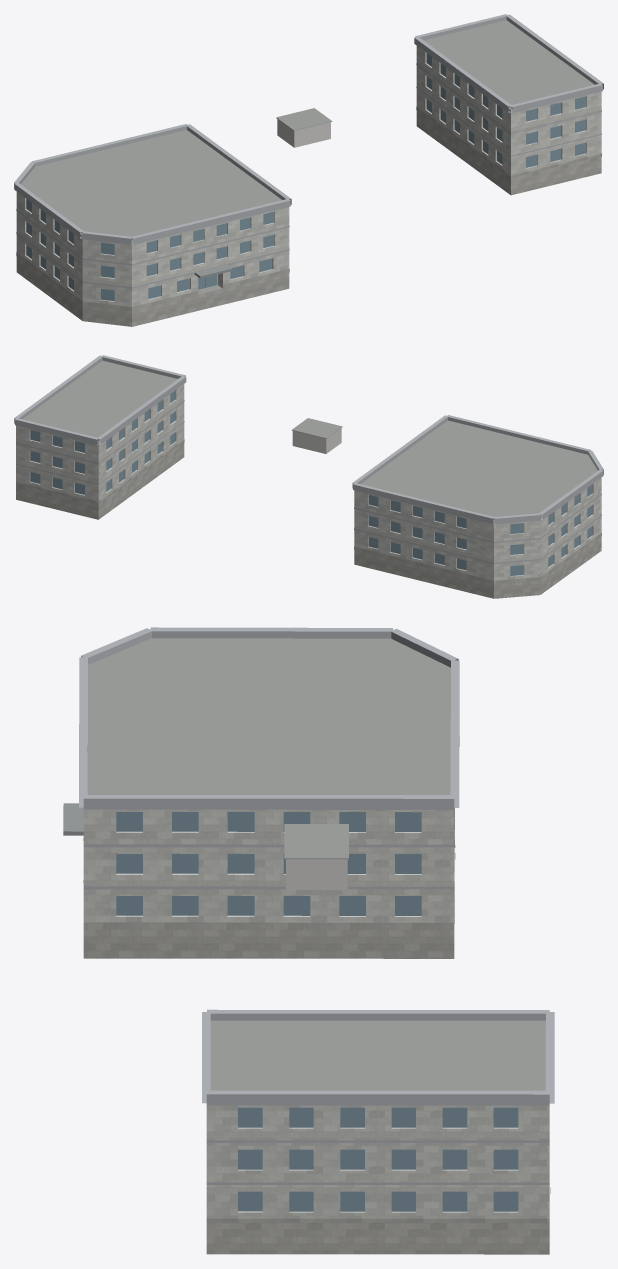
The picture shows the model from 3 angles, top to bottom: view 1: azimuth 30°, elevation 25°; view 2: azimuth 150°, elevation 25°; view 3: azimuth 270°, elevation 25°; orthographic projection. The views are drawn at different scales.
Parts seen in each view (by area): view 1: smartCityW15__roof, smartCityW15__wall, smartCityW15__trim, smartCityW15__base, smartCityW15__glass, smartCityW15__wall2; view 2: smartCityW15__roof, smartCityW15__wall, smartCityW15__trim, smartCityW15__base, smartCityW15__glass, smartCityW15__wall2; view 3: smartCityW15__roof, smartCityW15__wall, smartCityW15__trim, smartCityW15__base, smartCityW15__glass, smartCityW15__wall2.
Part boxes in pixels (box(x1,y1,x2,y2)): smartCityW15__roof: box(21, 20, 594, 294); smartCityW15__wall: box(16, 46, 601, 310); smartCityW15__trim: box(14, 14, 603, 288); smartCityW15__base: box(16, 106, 601, 326); smartCityW15__glass: box(26, 53, 585, 301); smartCityW15__wall2: box(277, 119, 330, 147); smartCityW15__roof: box(23, 360, 597, 521); smartCityW15__wall: box(16, 384, 601, 583); smartCityW15__trim: box(14, 355, 603, 563); smartCityW15__base: box(16, 439, 601, 598); smartCityW15__glass: box(30, 391, 592, 575); smartCityW15__wall2: box(292, 428, 341, 453); smartCityW15__roof: box(87, 638, 545, 1090); smartCityW15__wall: box(83, 808, 549, 1218); smartCityW15__trim: box(79, 627, 554, 1184); smartCityW15__base: box(83, 819, 550, 1254); smartCityW15__glass: box(116, 812, 518, 1211); smartCityW15__wall2: box(286, 859, 347, 889).
Bounding box in the file's own units: 87.95 × 16.1 × 38.18.
Materials: 9 (2 with a texture image).
